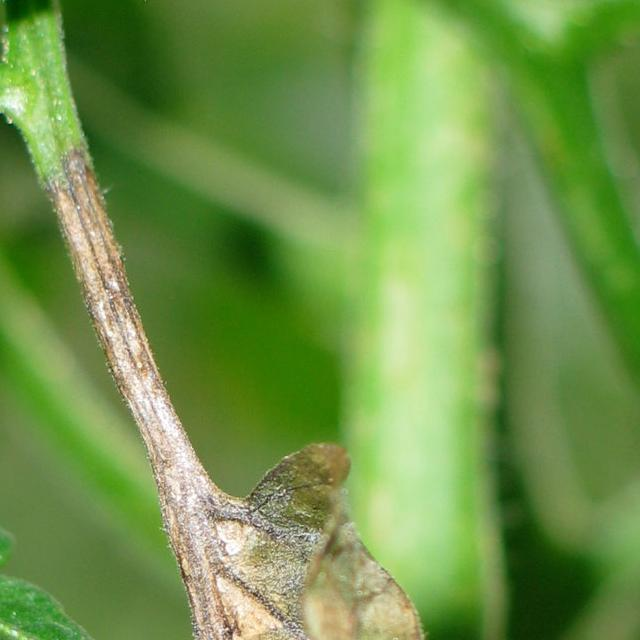Tomato leaf late blight: (9, 391, 640, 640)
